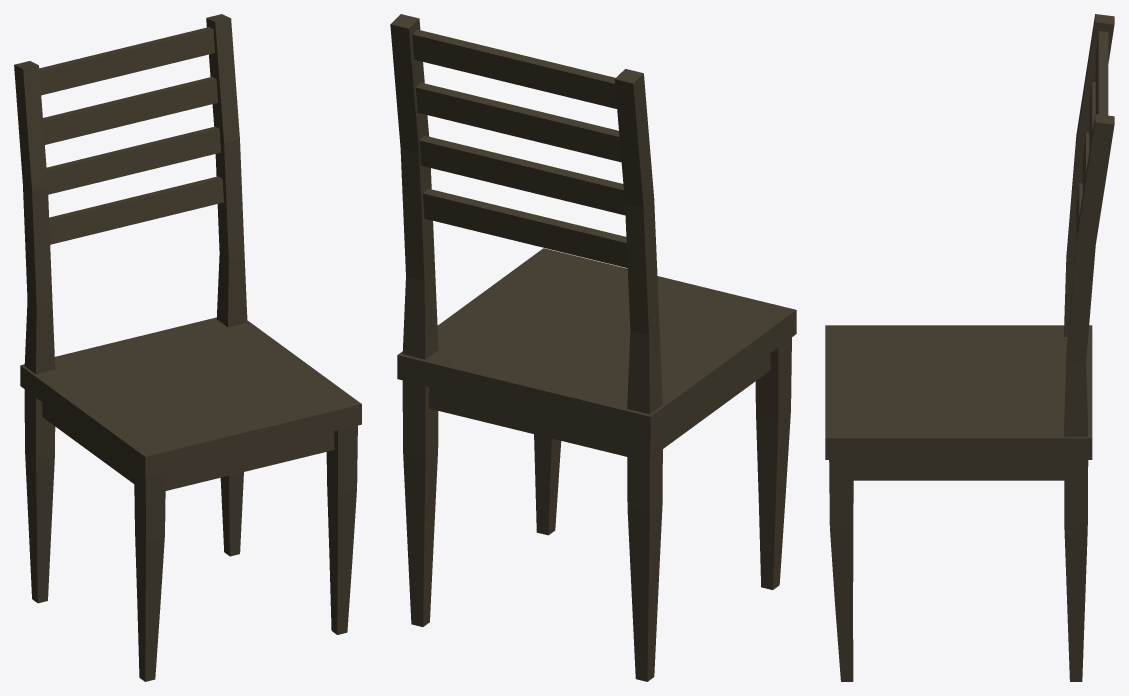
File: chair_1.glb
The picture shows the model from 3 angles, left to right: view 1: azimuth 30°, elevation 25°; view 2: azimuth 150°, elevation 25°; view 3: azimuth 270°, elevation 25°; orthographic projection. The views are drawn at different scales.
Visible parts, largest first — view 1: chair_1; view 2: chair_1; view 3: chair_1.
Part boxes in pixels (x1,y1,x2,y2): chair_1: (14,14,361,681); chair_1: (390,14,796,681); chair_1: (825,14,1114,681).
Size of the model in its own units: 0.3878 by 0.9 by 0.4202.
